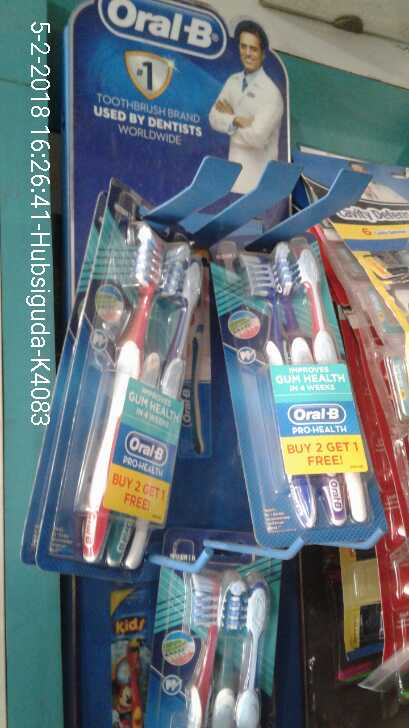oralb: (33, 178, 201, 570), (207, 230, 384, 542), (146, 535, 290, 728)
